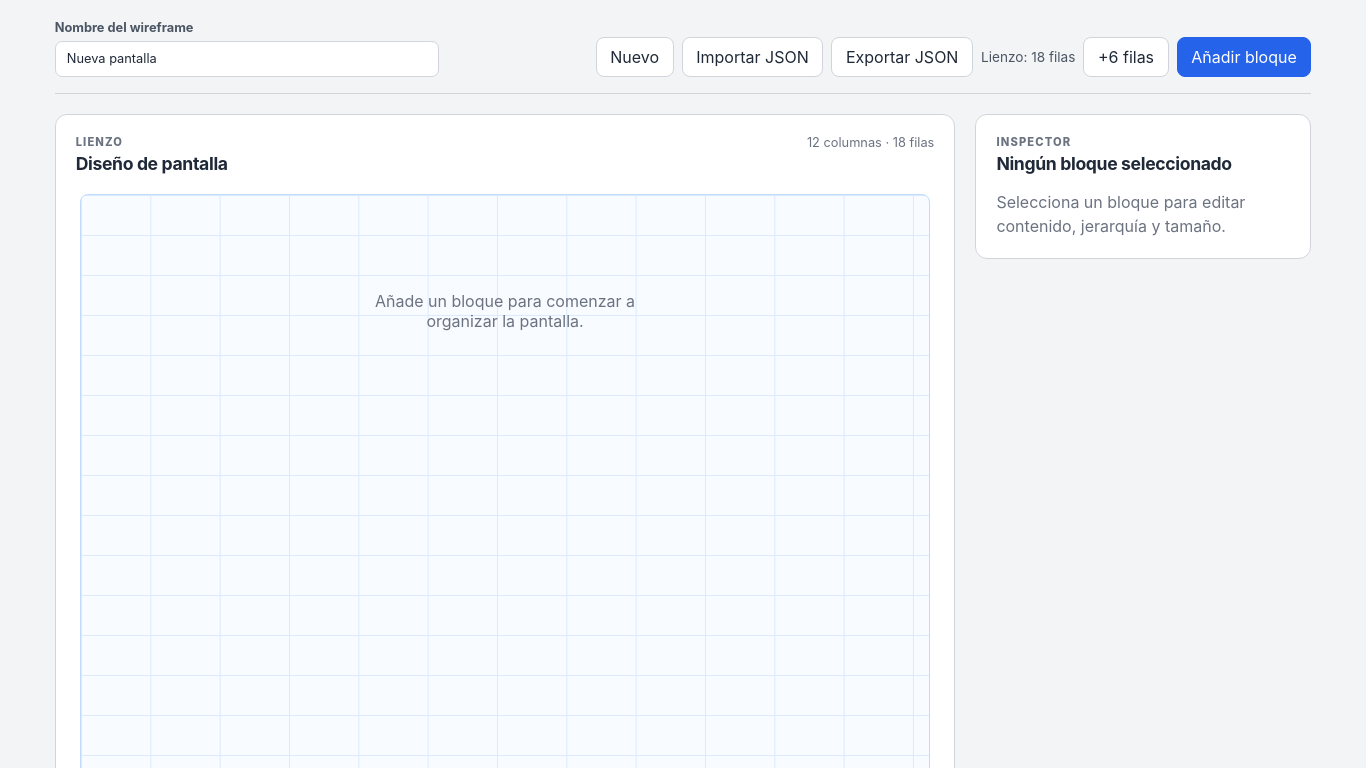
Test: App › renames the document and starts a new one
Replace the text in the field labelled "Nombre del wireframe" with "Dashboard de runs" at (247, 59), box [55,41,439,77]
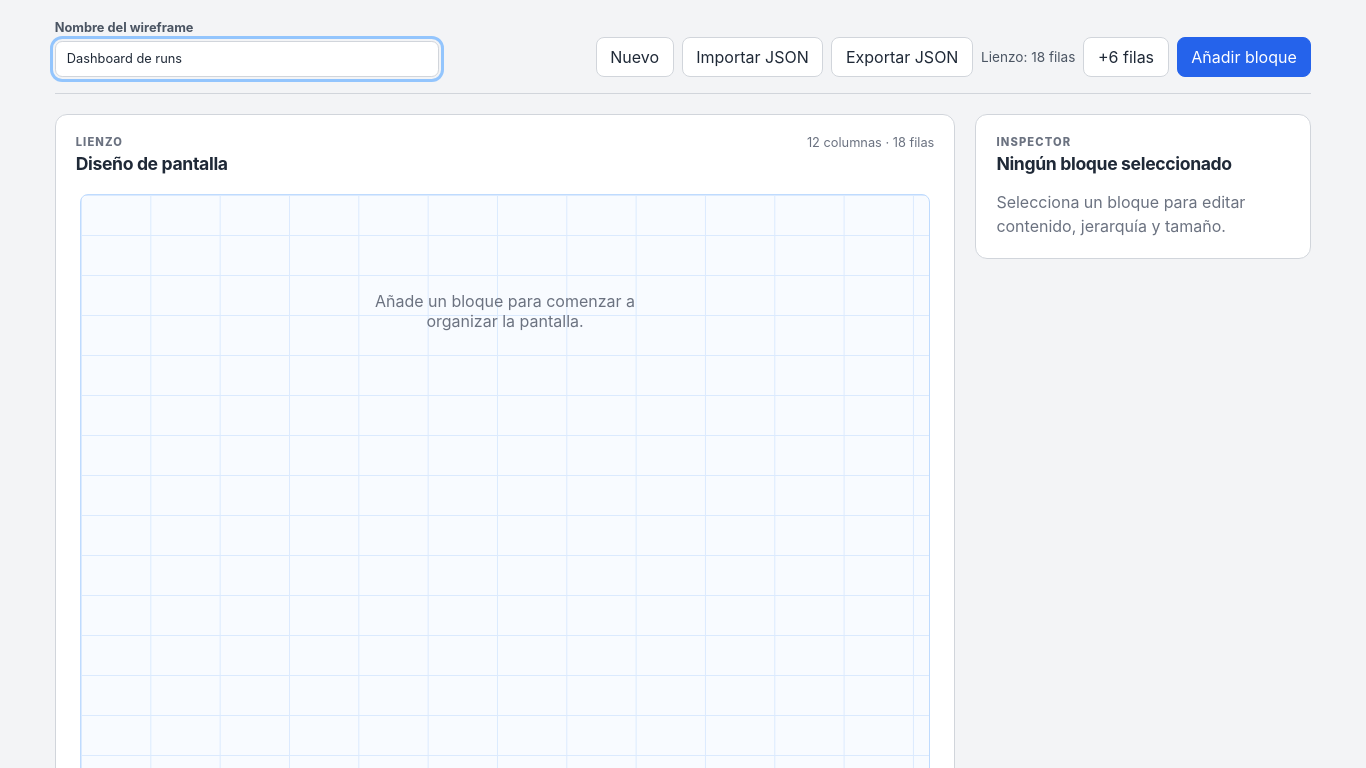
Click the button "Nuevo" at (635, 57), box [596,37,674,77]
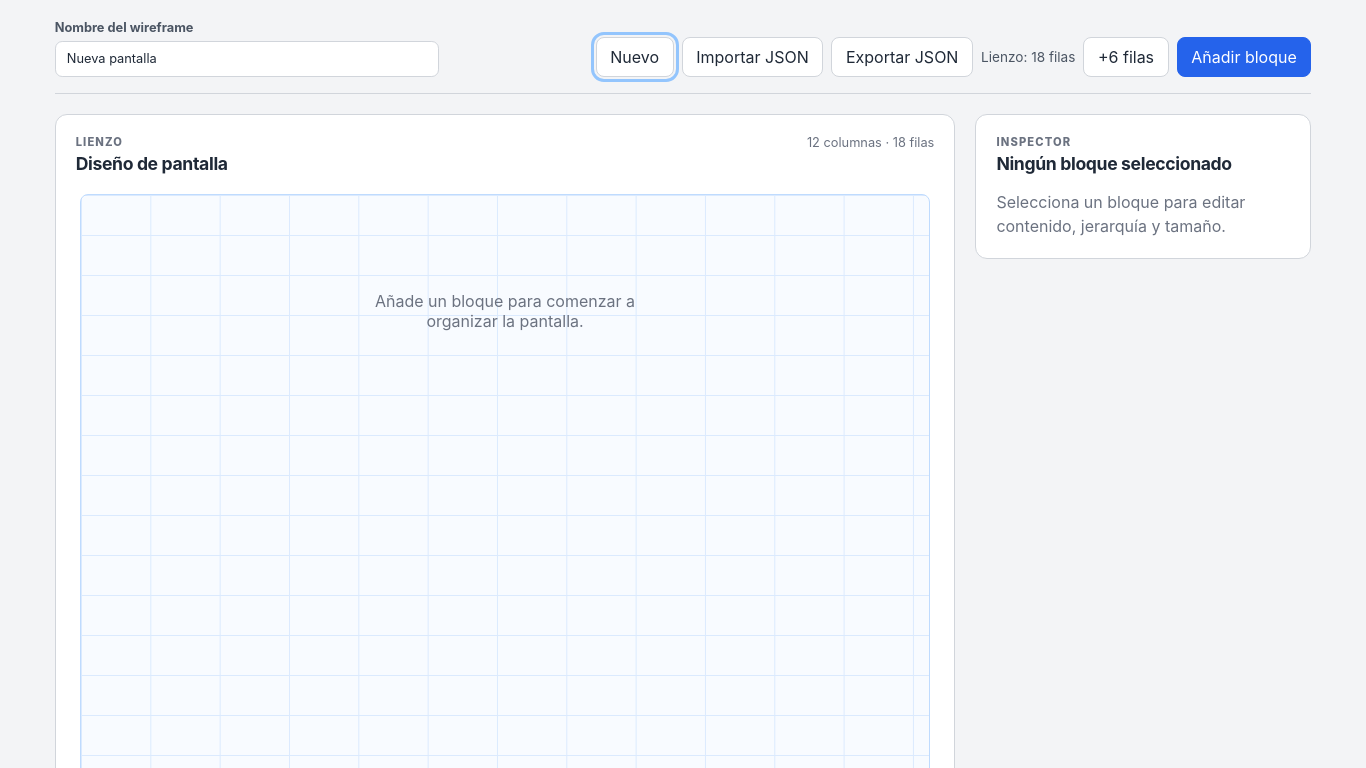
Check: the field labelled "Nombre del wireframe" holds "Nueva pantalla", box [55,41,439,77]
